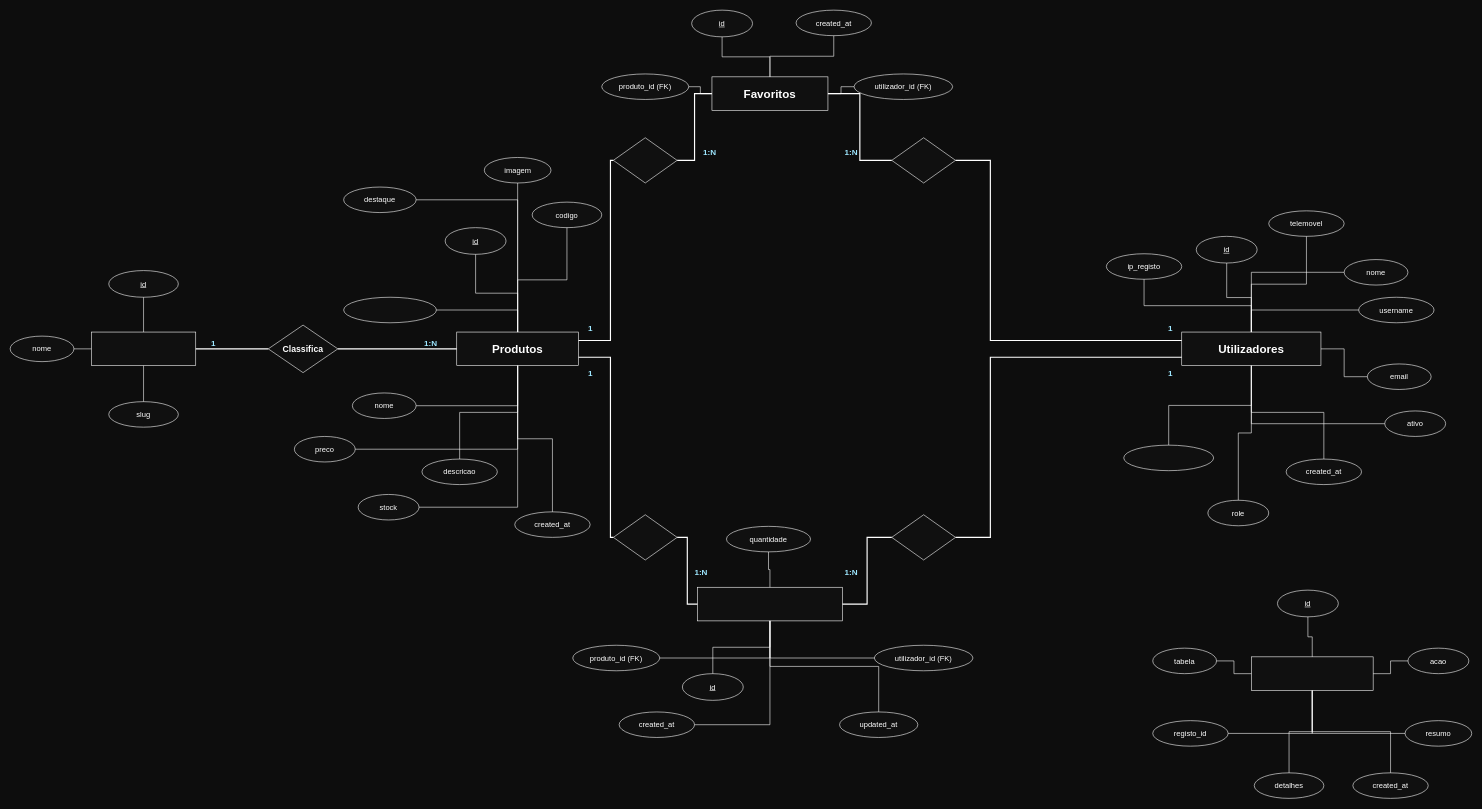
This 1482x809 diagram has some shape labels left out. Here are the shapes that lost their labels. From the top down, the centre of each, then its label:
At (645,160): "Refere".
At (923,160): "Guarda".
At (389,310): "categoria_id (FK)".
At (143,348): "Categorias".
At (1168,458): "password_hash".
At (645,537): "Contem".
At (923,537): "Possui".
At (769,604): "Carrinho_Itens".
At (1312,673): "Logs_Admin".
